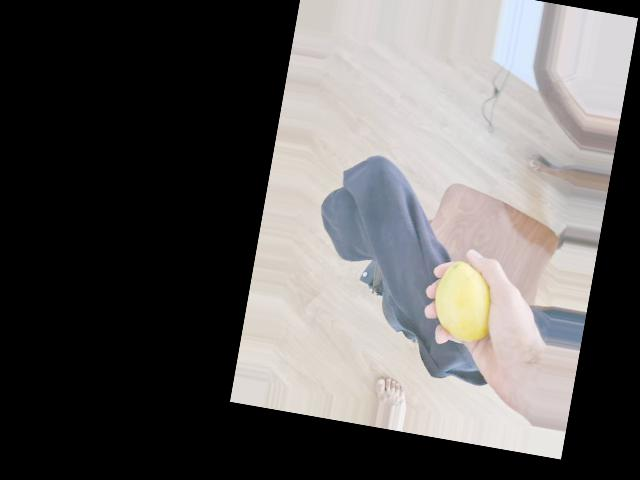lemon: (431, 259, 499, 344)
